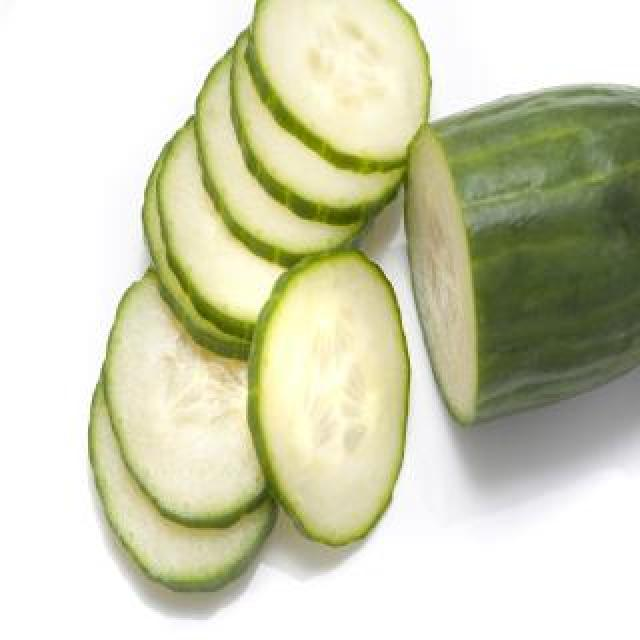Wet: (404, 84, 639, 426), (246, 252, 407, 544)
